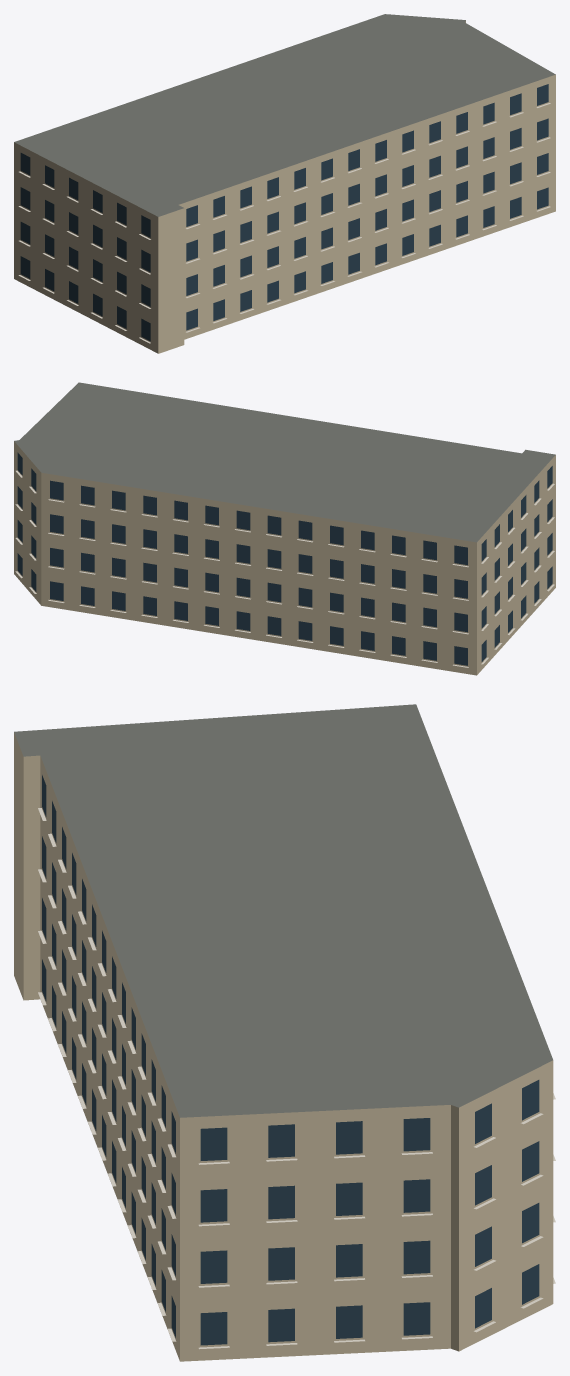
The picture shows the model from 3 angles, top to bottom: view 1: azimuth 30°, elevation 25°; view 2: azimuth 150°, elevation 25°; view 3: azimuth 270°, elevation 25°; orthographic projection. The views are drawn at different scales.
Visible parts, largest first — view 1: Footprint 0, Inferred window bays, Window sills; view 2: Footprint 0, Inferred window bays, Window sills; view 3: Footprint 0, Inferred window bays, Window sills.
Boxes of the visible parts, bbox=[...] form: Footprint 0: bbox=[14, 14, 555, 353]; Inferred window bays: bbox=[20, 84, 548, 341]; Window sills: bbox=[18, 103, 550, 343]; Footprint 0: bbox=[14, 382, 555, 675]; Inferred window bays: bbox=[17, 452, 552, 665]; Window sills: bbox=[15, 470, 554, 667]; Footprint 0: bbox=[14, 704, 553, 1361]; Inferred window bays: bbox=[42, 775, 539, 1345]; Window sills: bbox=[38, 808, 555, 1349].
Bounding box in the file's own units: 45.52 × 12.45 × 25.08.
